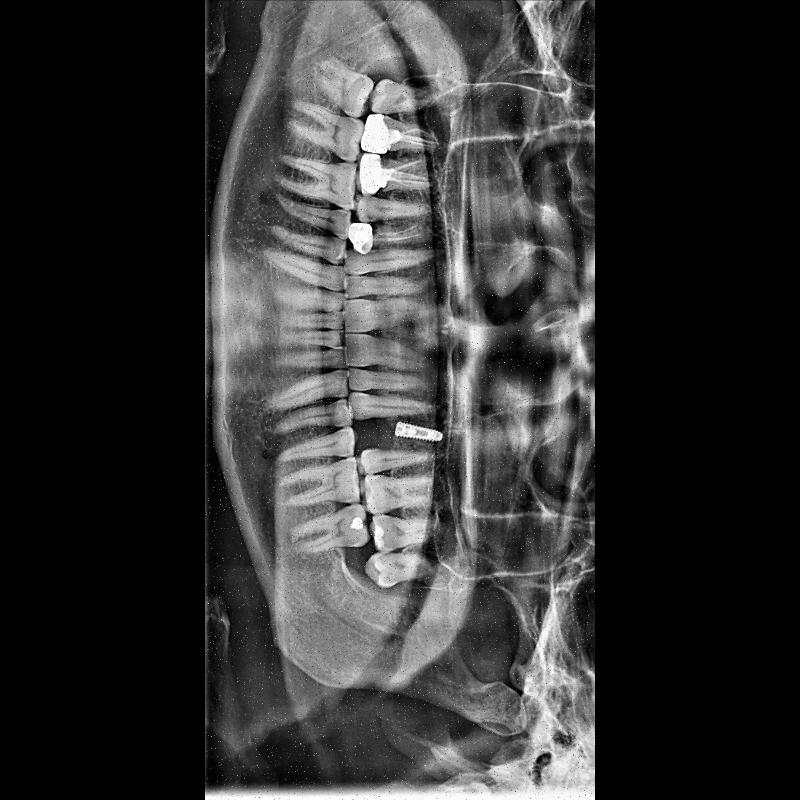osstem: (394, 417, 446, 447)
